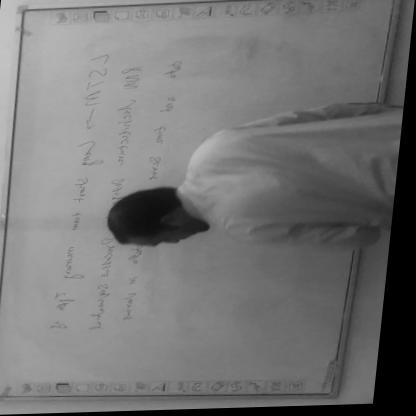Handwritten text: (48, 50, 115, 335), (124, 51, 183, 329), (92, 65, 144, 341)
Lecturer: (103, 102, 402, 269)
Whiteboard: (0, 0, 394, 399)
